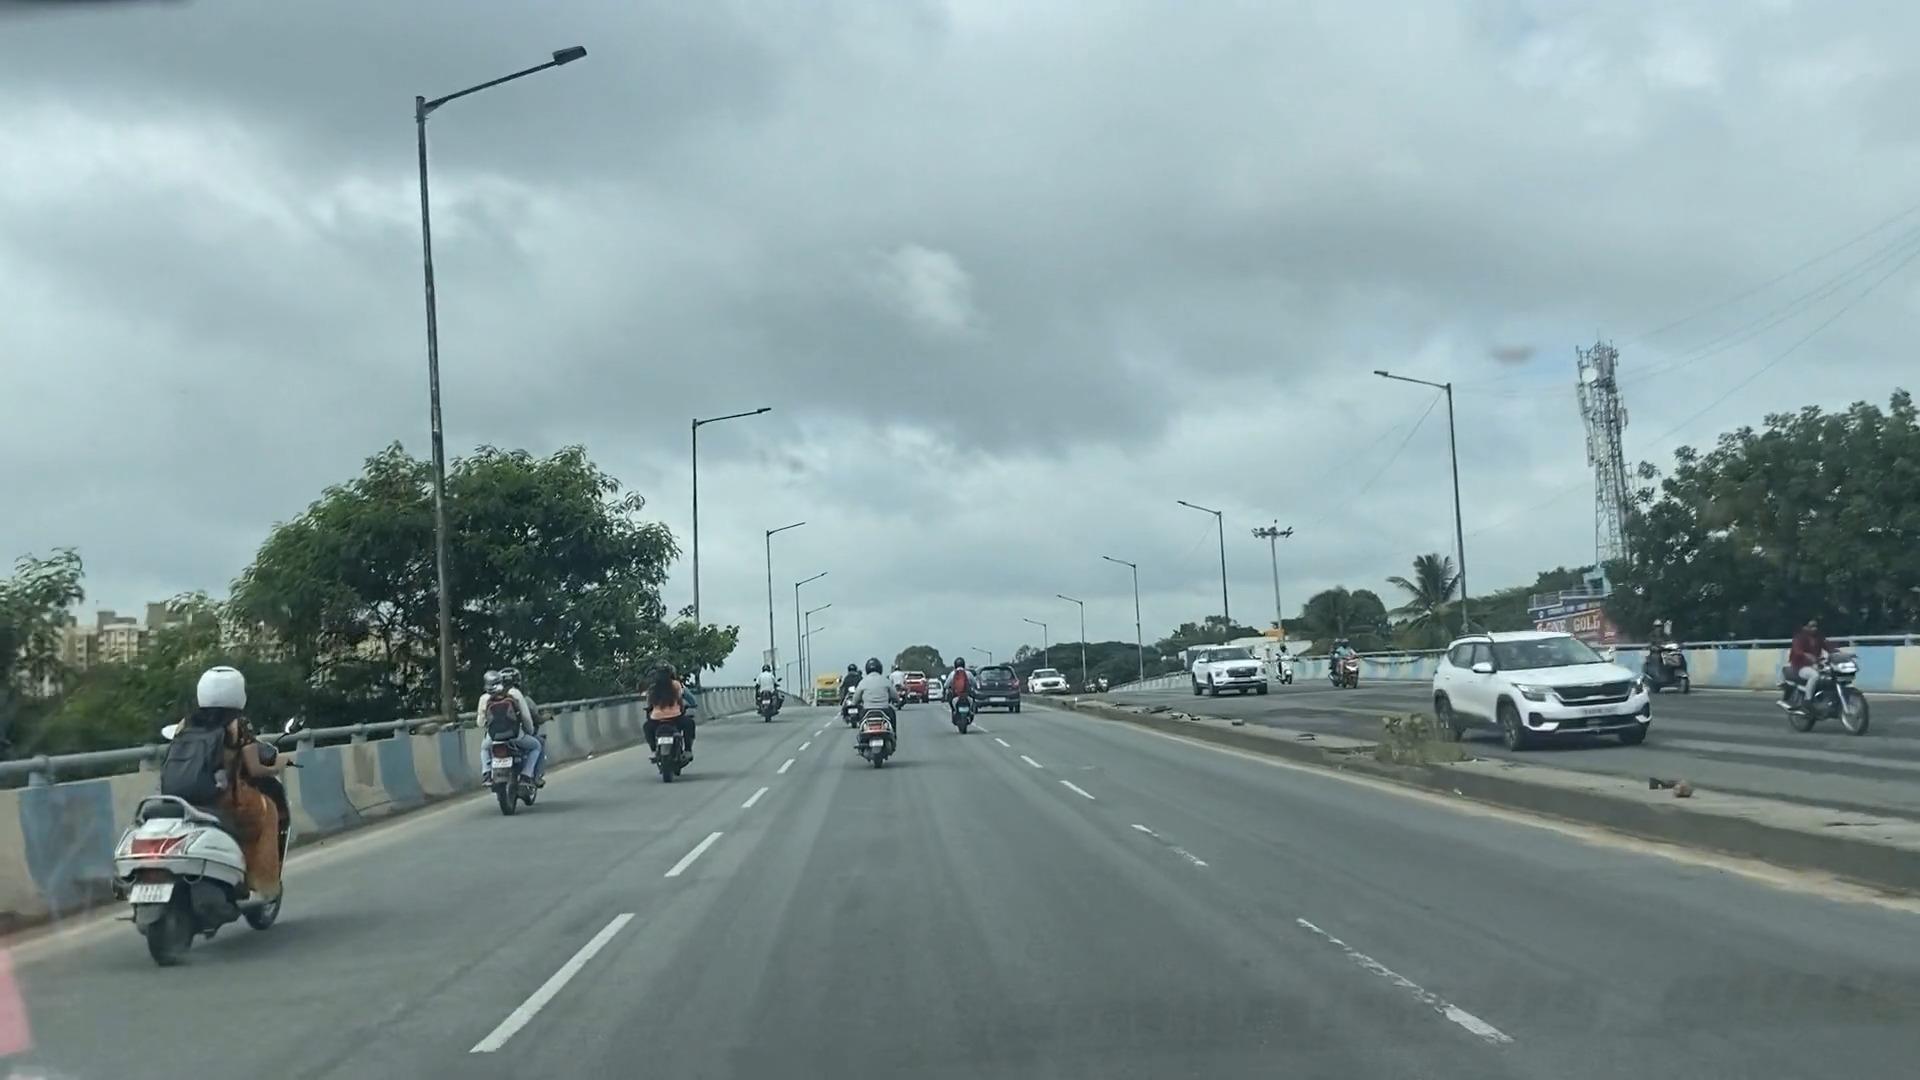LMV: (124, 674, 269, 976), (477, 673, 549, 823), (647, 640, 705, 794), (852, 658, 901, 769), (978, 650, 1018, 736), (756, 651, 789, 733), (949, 659, 975, 723)
